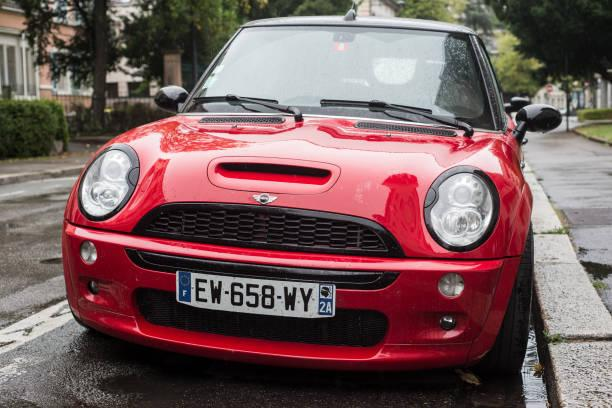mini: (247, 188, 283, 216)
